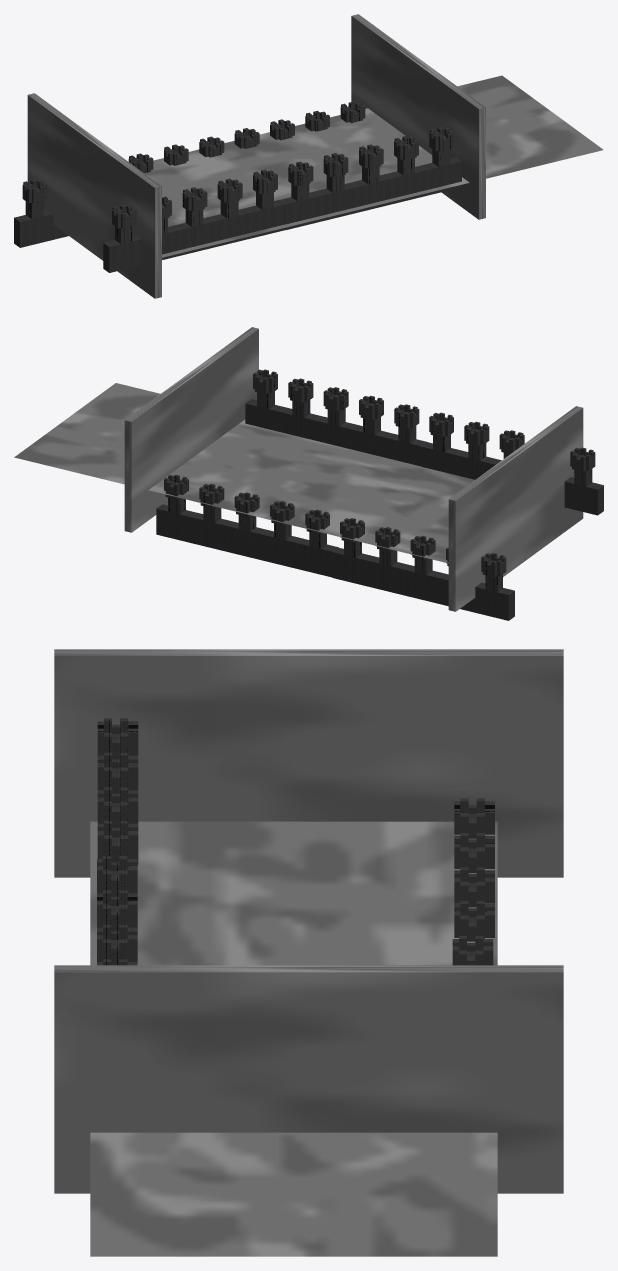
File: ground.obj
The picture shows the model from 3 angles, top to bottom: view 1: azimuth 30°, elevation 25°; view 2: azimuth 150°, elevation 25°; view 3: azimuth 270°, elevation 25°; orthographic projection. The views are drawn at different scales.
Visible parts, largest first — view 1: 平面, 立方体, 立方体.002, 立方体.003, 立方体.005; view 2: 平面, 立方体.005, 立方体.002, 立方体, 立方体.003; view 3: 平面, 立方体.003, 立方体.002, 立方体, 立方体.005.
Boxes of the visible parts, left/top/right/bottom form: 平面: left=144, top=75, right=603, bottom=257; 立方体: left=103, top=126, right=461, bottom=272; 立方体.002: left=27, top=93, right=161, bottom=298; 立方体.003: left=351, top=14, right=485, bottom=219; 立方体.005: left=14, top=101, right=365, bottom=247; 平面: left=14, top=383, right=474, bottom=563; 立方体.005: left=156, top=474, right=514, bottom=620; 立方体.002: left=448, top=406, right=583, bottom=611; 立方体: left=245, top=369, right=603, bottom=515; 立方体.003: left=124, top=327, right=258, bottom=532; 平面: left=90, top=821, right=497, bottom=1256; 立方体.003: left=54, top=965, right=563, bottom=1193; 立方体.002: left=54, top=649, right=563, bottom=877; 立方体: left=97, top=718, right=138, bottom=965; 立方体.005: left=452, top=798, right=494, bottom=965.
Size of the model in its own units: 139 by 34.16 by 62.52.
Materials: 7 (7 with a texture image).
